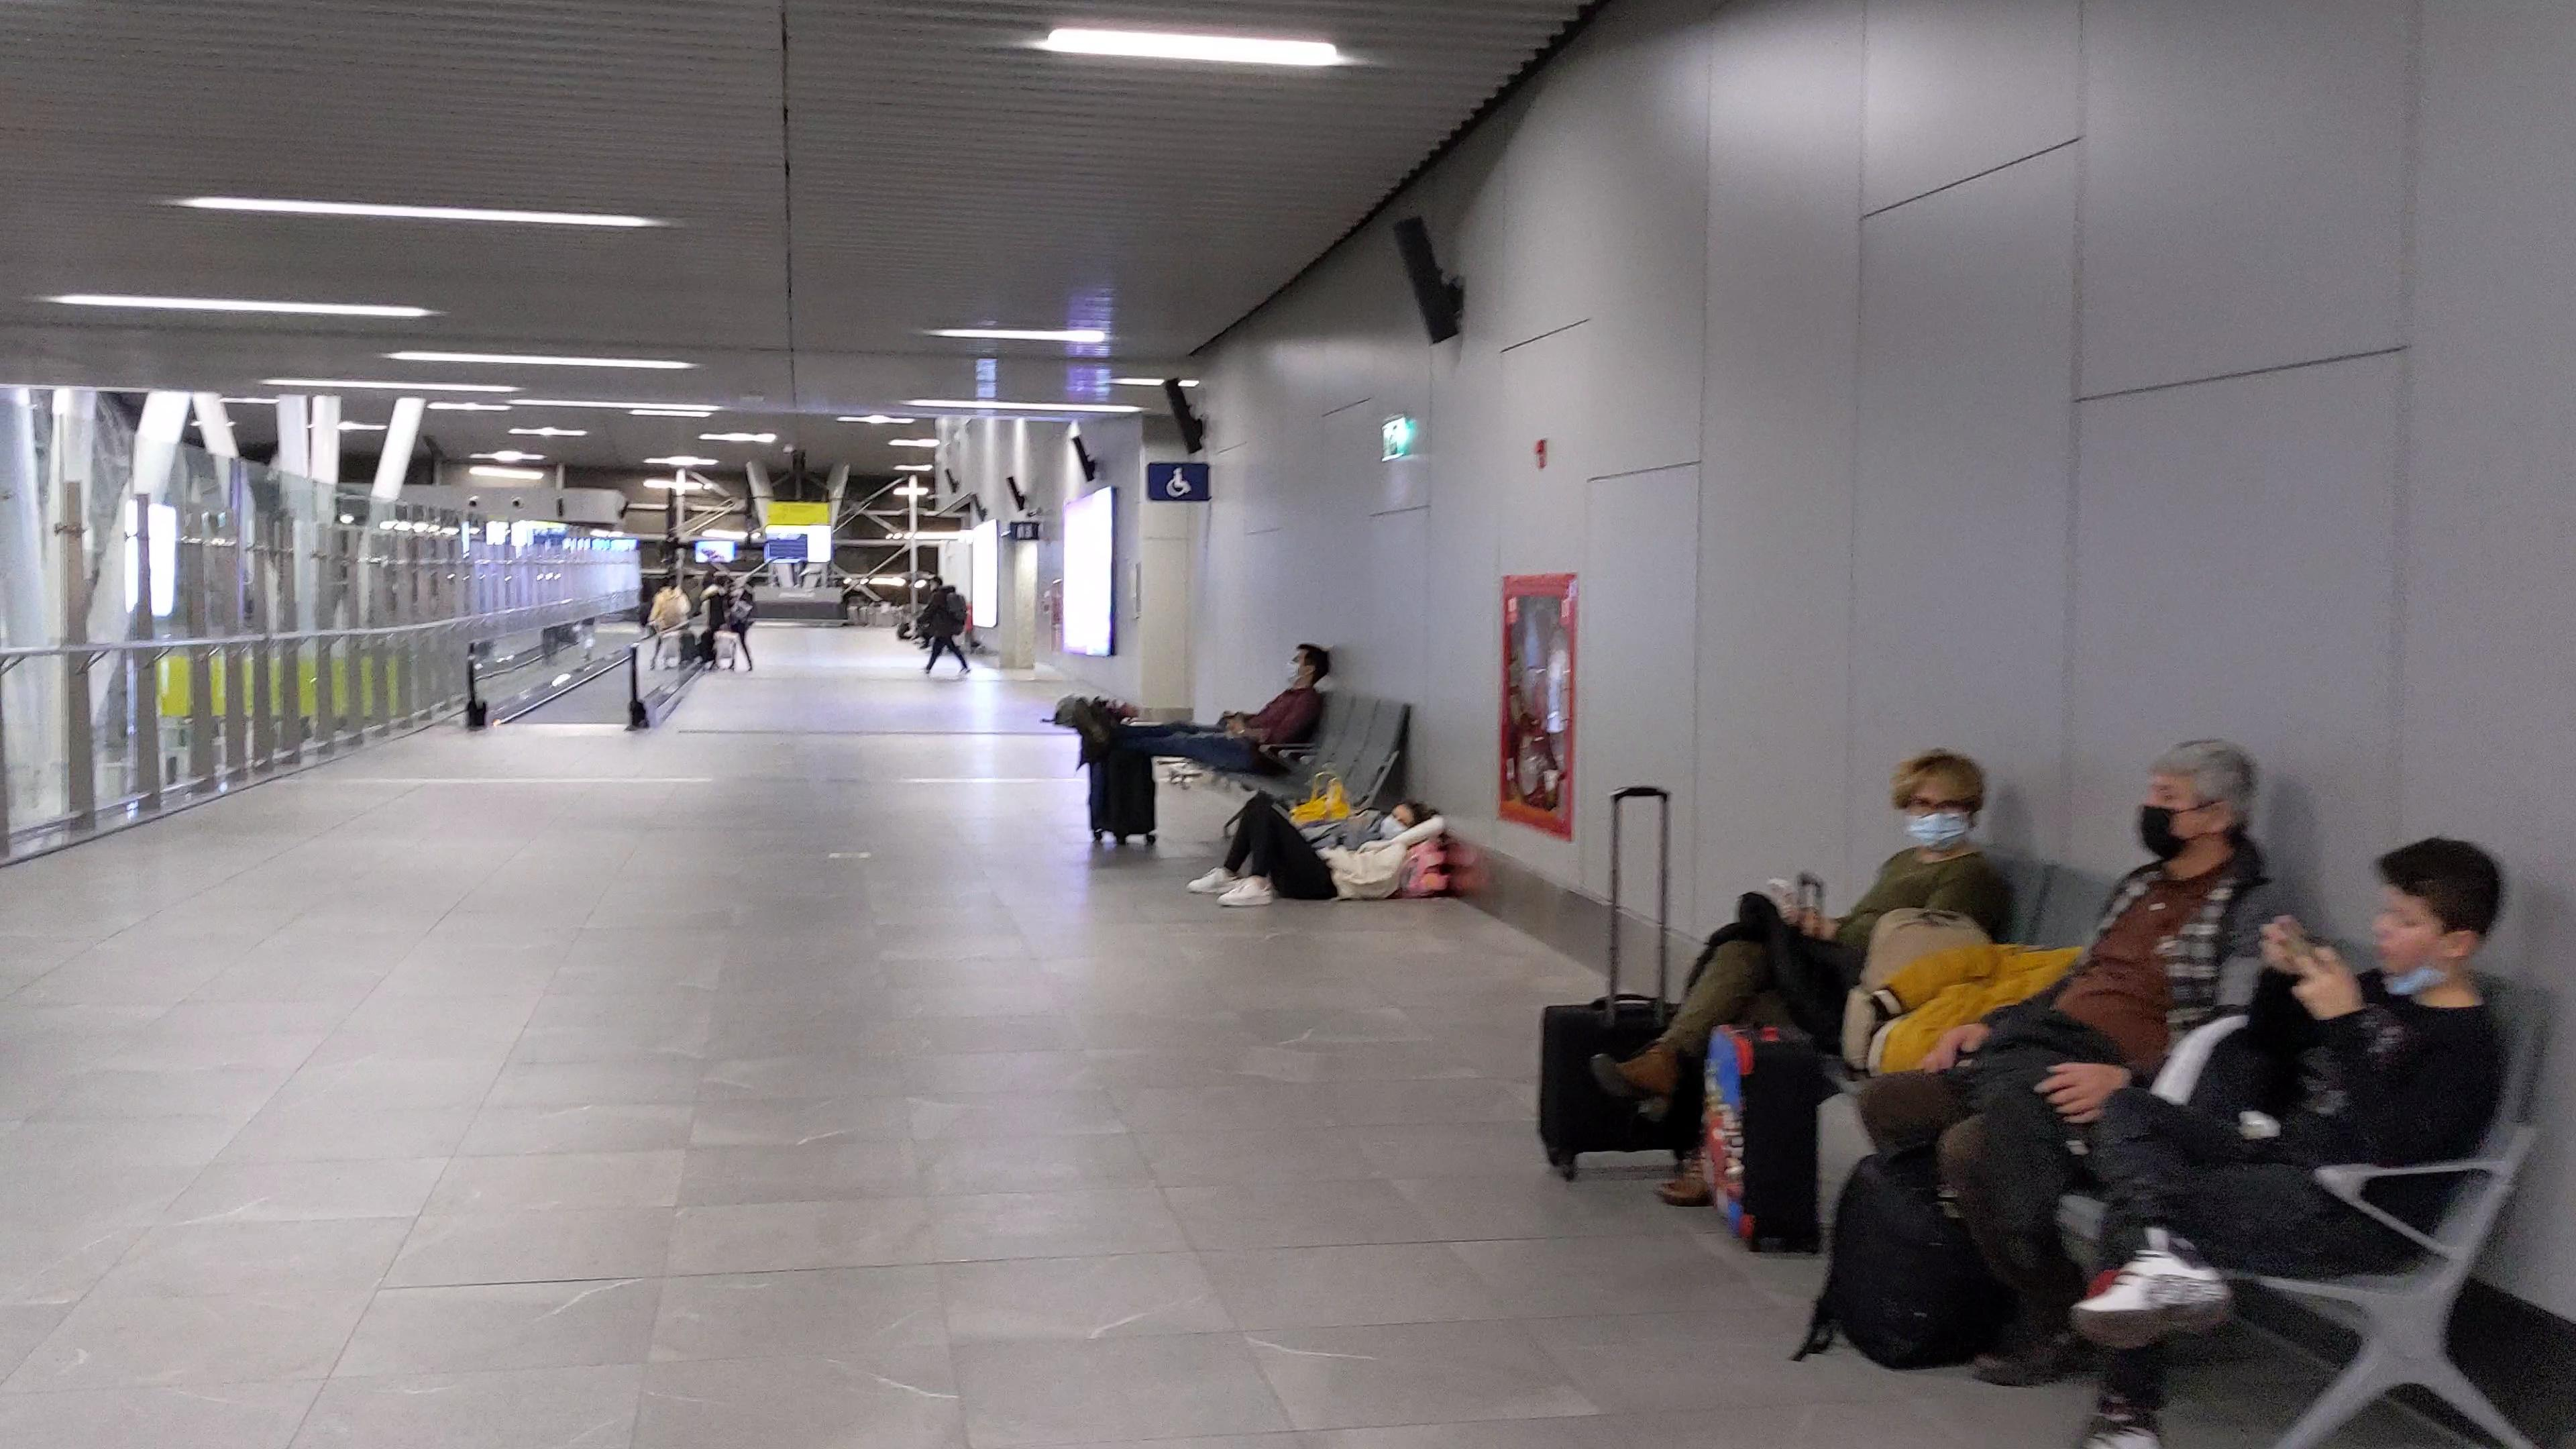bathrooms: (1014, 522, 1035, 540)
handicapped symbol: (1164, 467, 1194, 497)
